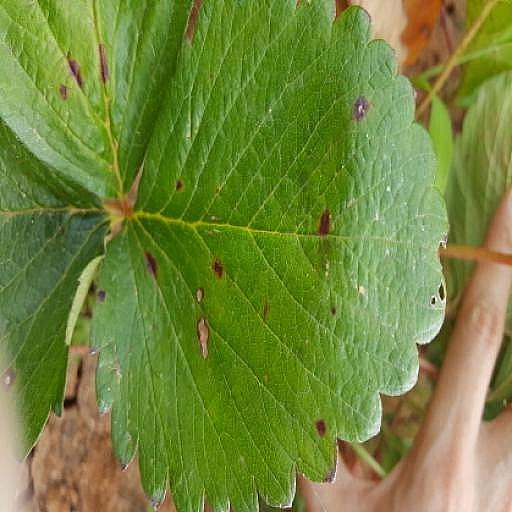Leaf Spot: (62, 0, 426, 511), (393, 116, 511, 467), (316, 0, 511, 198)
